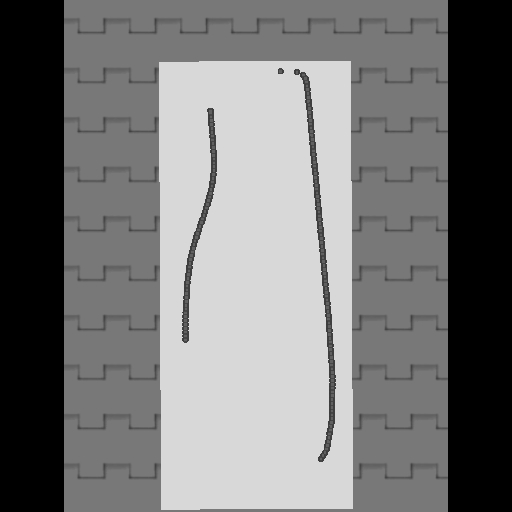Defect: (177, 341, 325, 477)
